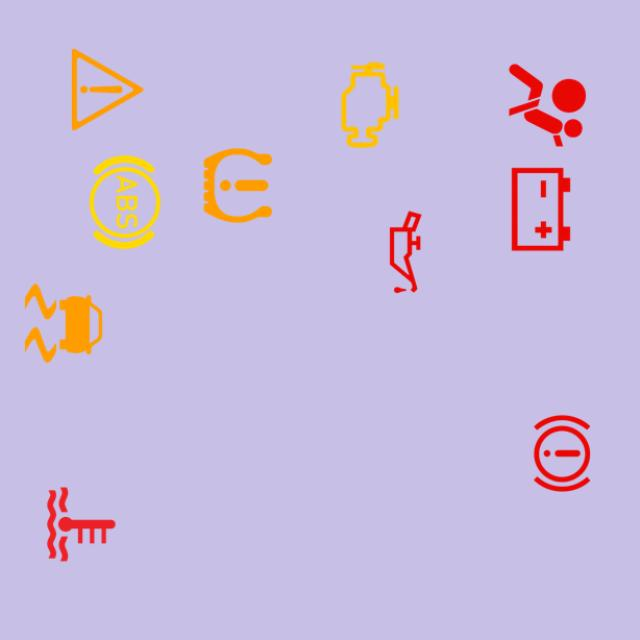Anti Lock Braking System: (74, 151, 176, 253)
Braking System Issue: (511, 402, 613, 504)
Charging System Issue: (490, 158, 592, 260)
Check Engine: (319, 55, 421, 156)
Electronic Stability Problem -ESP-: (12, 272, 114, 374)
Engine Overheating Warning Light: (31, 474, 132, 576)
Low Engine Oil Warning Light: (354, 201, 456, 303)
Low Tire Pressure Warning Light: (186, 134, 288, 236)
Master warning light: (56, 38, 158, 140)
SRS-Airbag: (496, 55, 598, 156)
